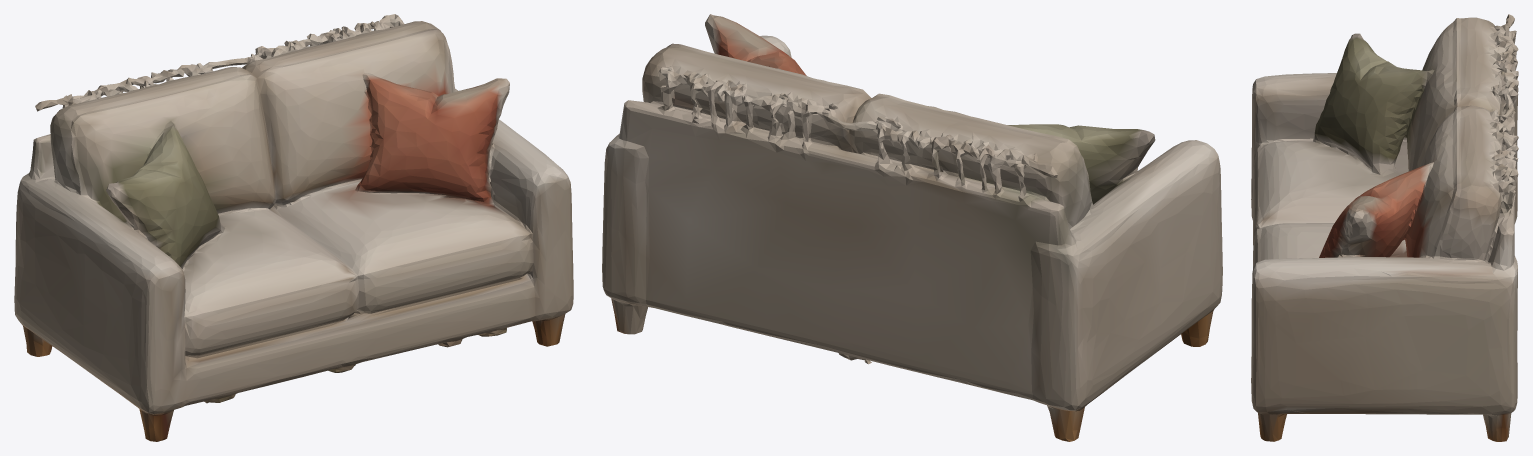
Rendered from sofa.glb.
The picture shows the model from 3 angles, left to right: view 1: azimuth 30°, elevation 25°; view 2: azimuth 150°, elevation 25°; view 3: azimuth 270°, elevation 25°; orthographic projection. The views are drawn at different scales.
Size of the model in its own units: 5.65e-05 by 3.08e-05 by 3.07e-05.
